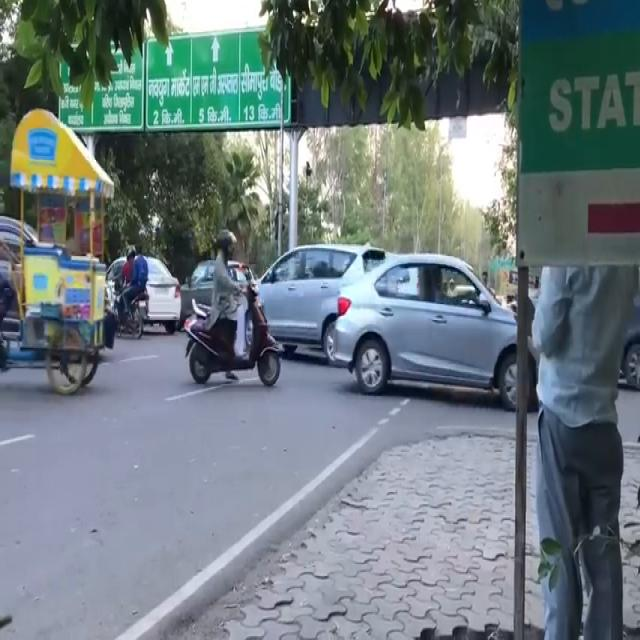MOTORCYCLE: (181, 280, 284, 390)
SED: (338, 255, 542, 415)
